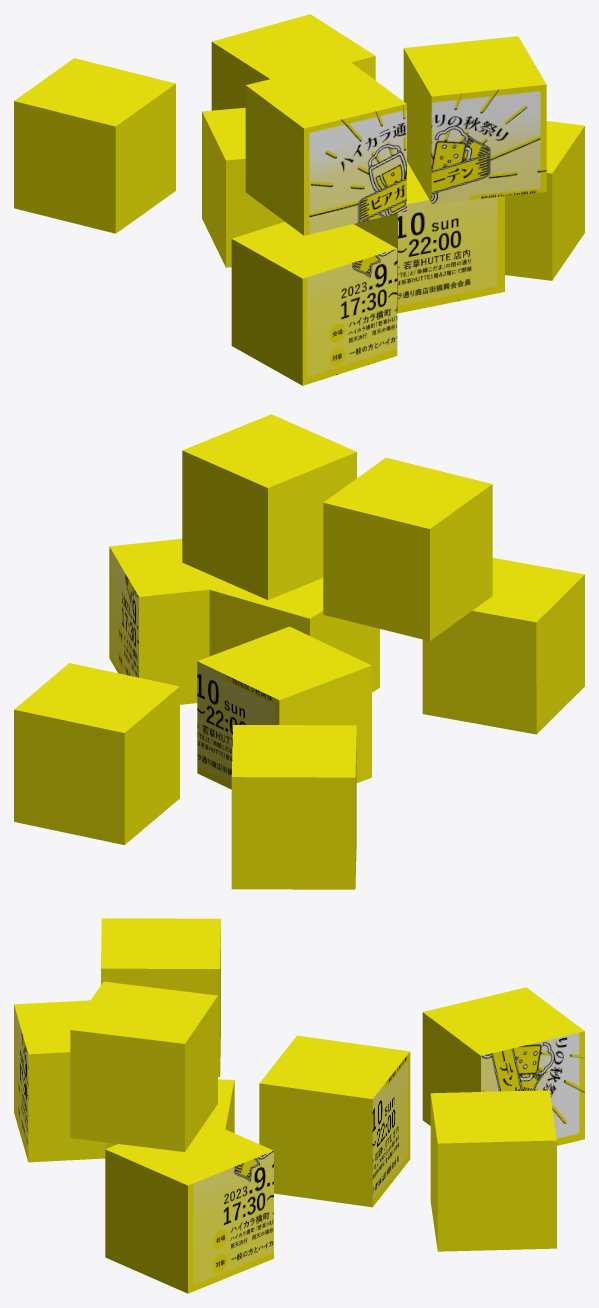
The picture shows the model from 3 angles, top to bottom: view 1: azimuth 30°, elevation 25°; view 2: azimuth 150°, elevation 25°; view 3: azimuth 270°, elevation 25°; orthographic projection. The views are drawn at different scales.
Visible parts, largest first — view 1: 立方体.001, 立方体.002, 立方体.003, 立方体, 立方体.004, 立方体.006, 立方体.005, 立方体.007; view 2: 立方体.002, 立方体.005, 立方体, 立方体.003, 立方体.001, 立方体.007, 立方体.006, 立方体.004; view 3: 立方体.006, 立方体, 立方体.007, 立方体.005, 立方体.001, 立方体.003, 立方体.002, 立方体.004.
Part boxes in pixels (x1=…): 立方体.001: x1=14, y1=58, x2=175, y2=233; 立方体.002: x1=245, y1=60, x2=406, y2=235; 立方体.003: x1=231, y1=222, x2=397, y2=385; 立方体: x1=403, y1=36, x2=546, y2=203; 立方体.004: x1=354, y1=162, x2=504, y2=313; 立方体.006: x1=505, y1=121, x2=584, y2=280; 立方体.005: x1=211, y1=14, x2=375, y2=110; 立方体.007: x1=202, y1=107, x2=284, y2=267; 立方体.002: x1=323, y1=457, x2=492, y2=640; 立方体.005: x1=14, y1=663, x2=179, y2=844; 立方体: x1=182, y1=414, x2=356, y2=599; 立方体.003: x1=422, y1=558, x2=584, y2=734; 立方体.001: x1=231, y1=725, x2=356, y2=889; 立方体.007: x1=197, y1=626, x2=371, y2=789; 立方体.006: x1=109, y1=538, x2=236, y2=704; 立方体.004: x1=209, y1=578, x2=379, y2=692; 立方体.006: x1=105, y1=1121, x2=273, y2=1293; 立方体: x1=70, y1=981, x2=217, y2=1151; 立方体.007: x1=259, y1=1035, x2=410, y2=1207; 立方体.005: x1=430, y1=1090, x2=556, y2=1251; 立方体.001: x1=422, y1=987, x2=584, y2=1145; 立方体.003: x1=14, y1=1000, x2=106, y2=1162; 立方体.002: x1=101, y1=918, x2=220, y2=1077; 立方体.004: x1=106, y1=1079, x2=234, y2=1148.
Size of the model in its own units: 11.81 by 6 by 14.36.
3 materials, 2 textured.
